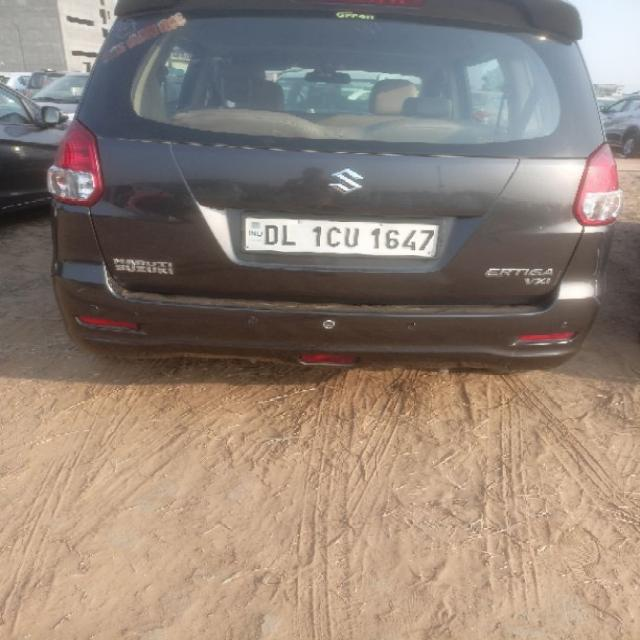license_plate: (238, 211, 442, 259)
